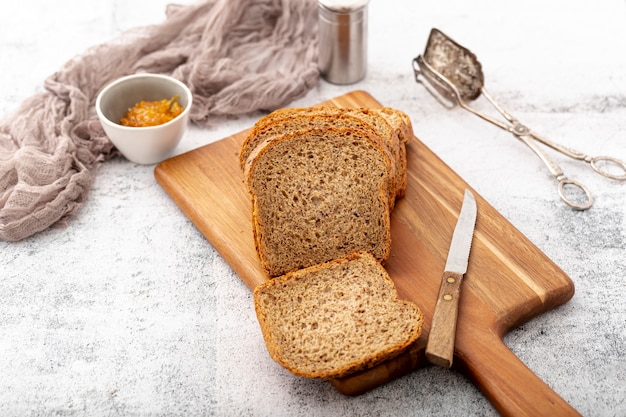knife: (424, 185, 476, 369)
